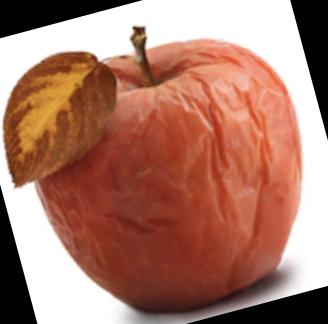Apple: (8, 35, 303, 313)
